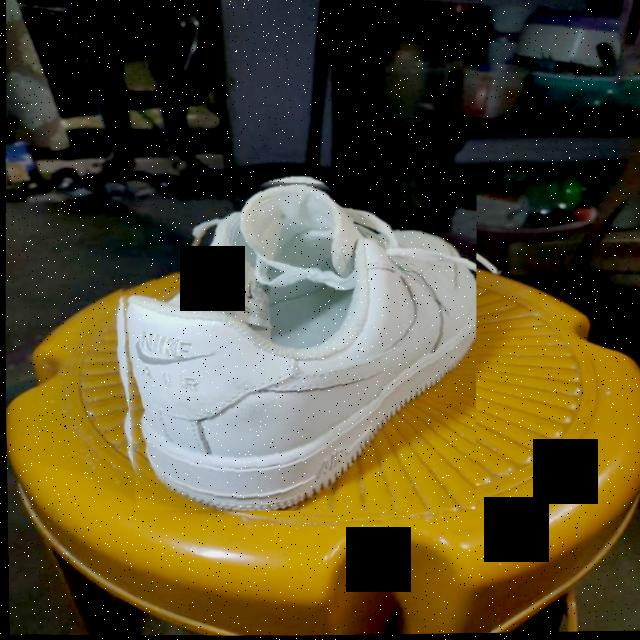shoe: (108, 170, 480, 516)
